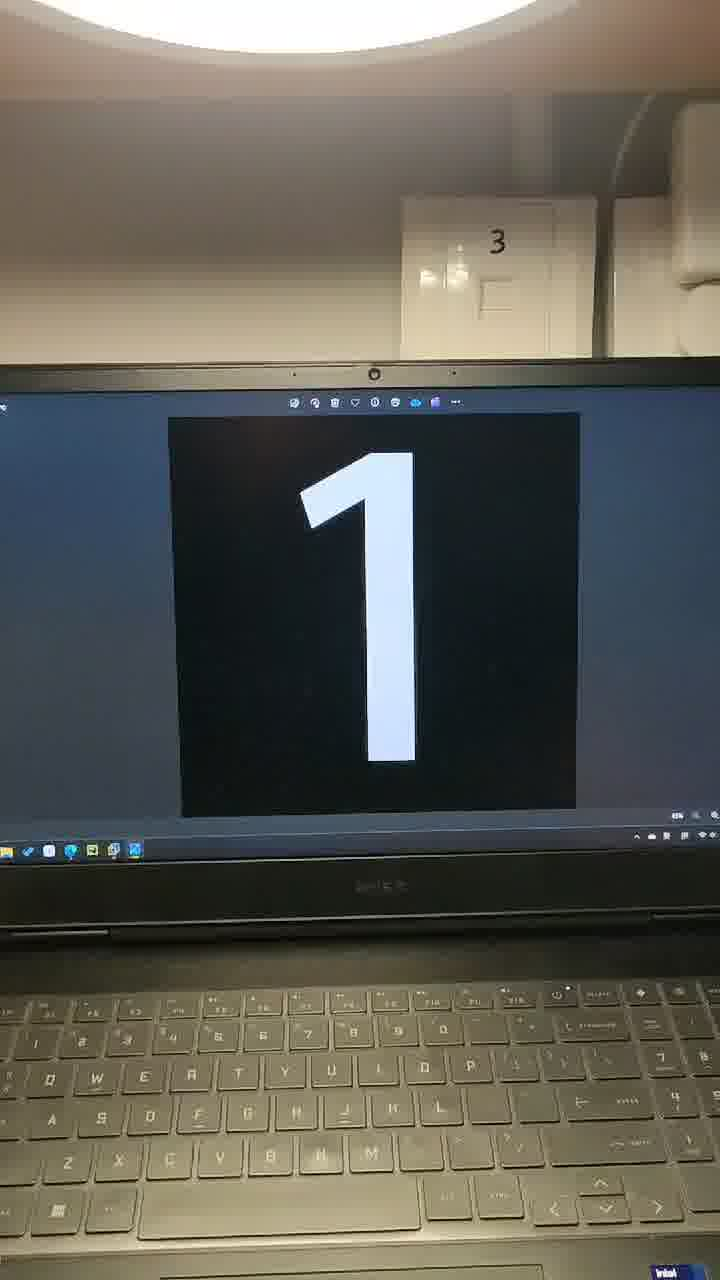one: (229, 379, 528, 825)
